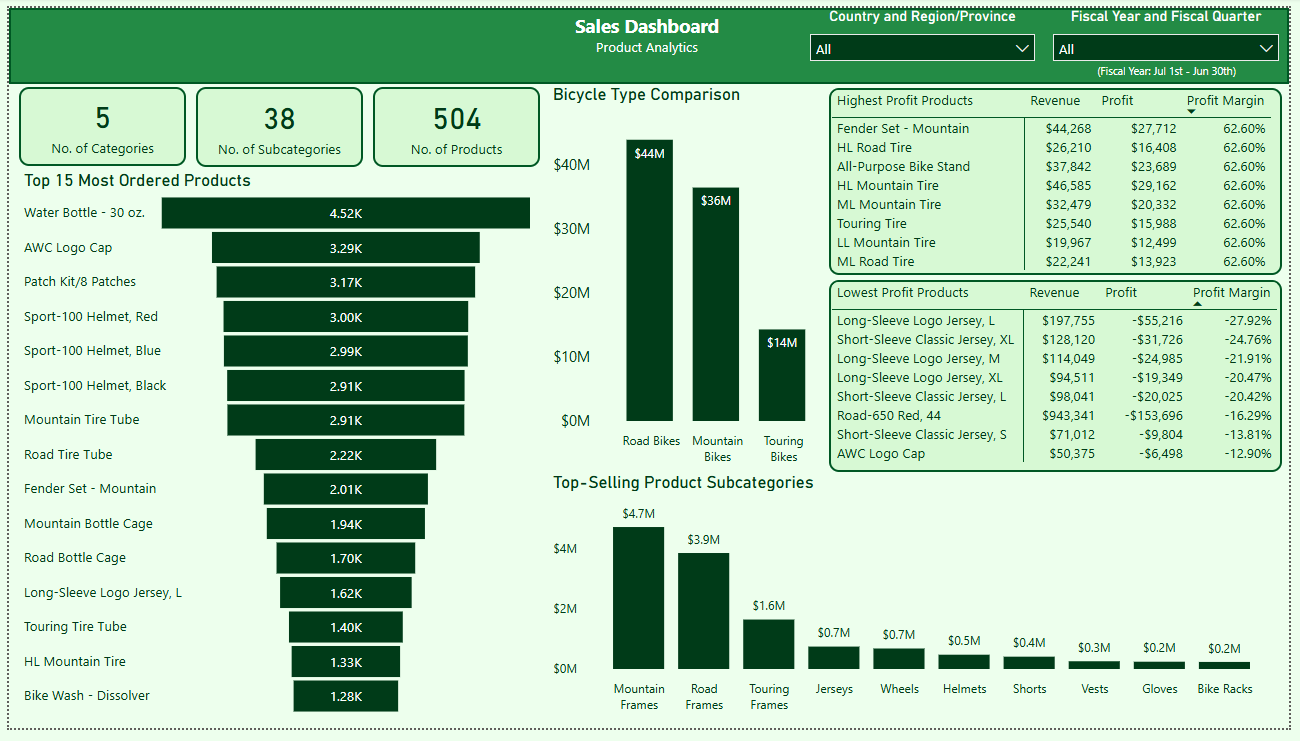

Layout of this report page (visuals, bound fields, positions):
{"tool":"powerbi","page":{"name":"Product Details","canvas":[1280,720],"ordinal":2},"visuals":[{"type":"shape","box":[0,0,1280,76],"z":0},{"type":"textbox","box":[516.7,0,242.5,64.2],"z":1000},{"type":"slicer","title":"Fiscal Year and Fiscal Quarter","fields":{"Values":["SalesOrderHeader.FiscalYear","SalesOrderHeader.FiscalQuarter"]},"box":[1034.1,0,245.9,63.2],"z":2000},{"type":"slicer","title":"Country and Region/Province","fields":{"Values":["Geographical.CountryName","Geographical.country_state_name"]},"box":[790.6,0,245.9,63.2],"z":3000},{"type":"card","fields":{"Values":["Count(ProductDetails.ProductID)"]},"box":[363.8,78.8,167.3,79.8],"z":4000},{"type":"card","fields":{"Values":["Count(ProductDetails.CategoryName)"]},"box":[9.8,78.7,167.3,79.8],"z":5000},{"type":"card","fields":{"Values":["Count(ProductDetails.SubcategoryName)"]},"box":[186.8,78.8,167.3,79.8],"z":6000},{"type":"clusteredColumnChart","title":"Top-Selling Product Subcategories","fields":{"Category":["ProductDetails.SubcategoryName"],"Y":["Sum(SalesOrderDetail.LineTotal)"]},"box":[538.8,464,734.3,248],"z":7000},{"type":"funnel","title":"Top 15 Most Ordered Products","fields":{"Y":["CountNonNull(SalesOrderDetail.OrderQty)"],"Category":["ProductDetails.ProductName"]},"box":[9.7,162.4,521.3,549.5],"z":8000},{"type":"columnChart","title":"Bicycle Type Comparison","fields":{"Y":["Sum(SalesOrderDetail.LineTotal)"],"Category":["ProductDetails.SubcategoryName"]},"box":[538.8,75.9,291.8,388.1],"z":9000},{"type":"pivotTable","fields":{"Values":["Sum(SalesOrderDetail.LineTotal)","SalesOrderDetail.Profit","SalesOrderDetail.Profit Margin"],"Rows":["ProductDetails.ProductName"]},"box":[819.9,79.8,453.3,186.7],"z":10000},{"type":"pivotTable","fields":{"Values":["Sum(SalesOrderDetail.LineTotal)","SalesOrderDetail.Profit","SalesOrderDetail.Profit Margin"],"Rows":["ProductDetails.ProductName"]},"box":[819.9,272.3,453.3,191.6],"z":11000},{"type":"textbox","box":[1070.9,47.7,173.1,30.2],"z":12000}]}

Visuals, with their boxes in screenshot pixels (x1, y1, x2, y2), scaled from the page's 1280x720 canvas onto the 1300x741 screenshot:
shape: 0,0,1299,78
textbox: 525,0,771,66
"Fiscal Year and Fiscal Quarter" slicer: 1050,0,1299,65
"Country and Region/Province" slicer: 803,0,1053,65
card - Count(ProductDetails.ProductID): 369,81,539,163
card - Count(ProductDetails.CategoryName): 10,81,180,163
card - Count(ProductDetails.SubcategoryName): 190,81,360,163
"Top-Selling Product Subcategories" clusteredColumnChart: 547,478,1293,733
"Top 15 Most Ordered Products" funnel: 10,167,539,733
"Bicycle Type Comparison" columnChart: 547,78,844,478
pivotTable - Sum(SalesOrderDetail.LineTotal) x SalesOrderDetail.Profit: 833,82,1293,274
pivotTable - Sum(SalesOrderDetail.LineTotal) x SalesOrderDetail.Profit: 833,280,1293,477
textbox: 1088,49,1263,80
